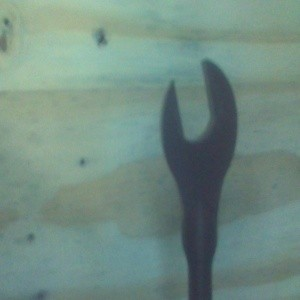spanner: (159, 59, 239, 300)
